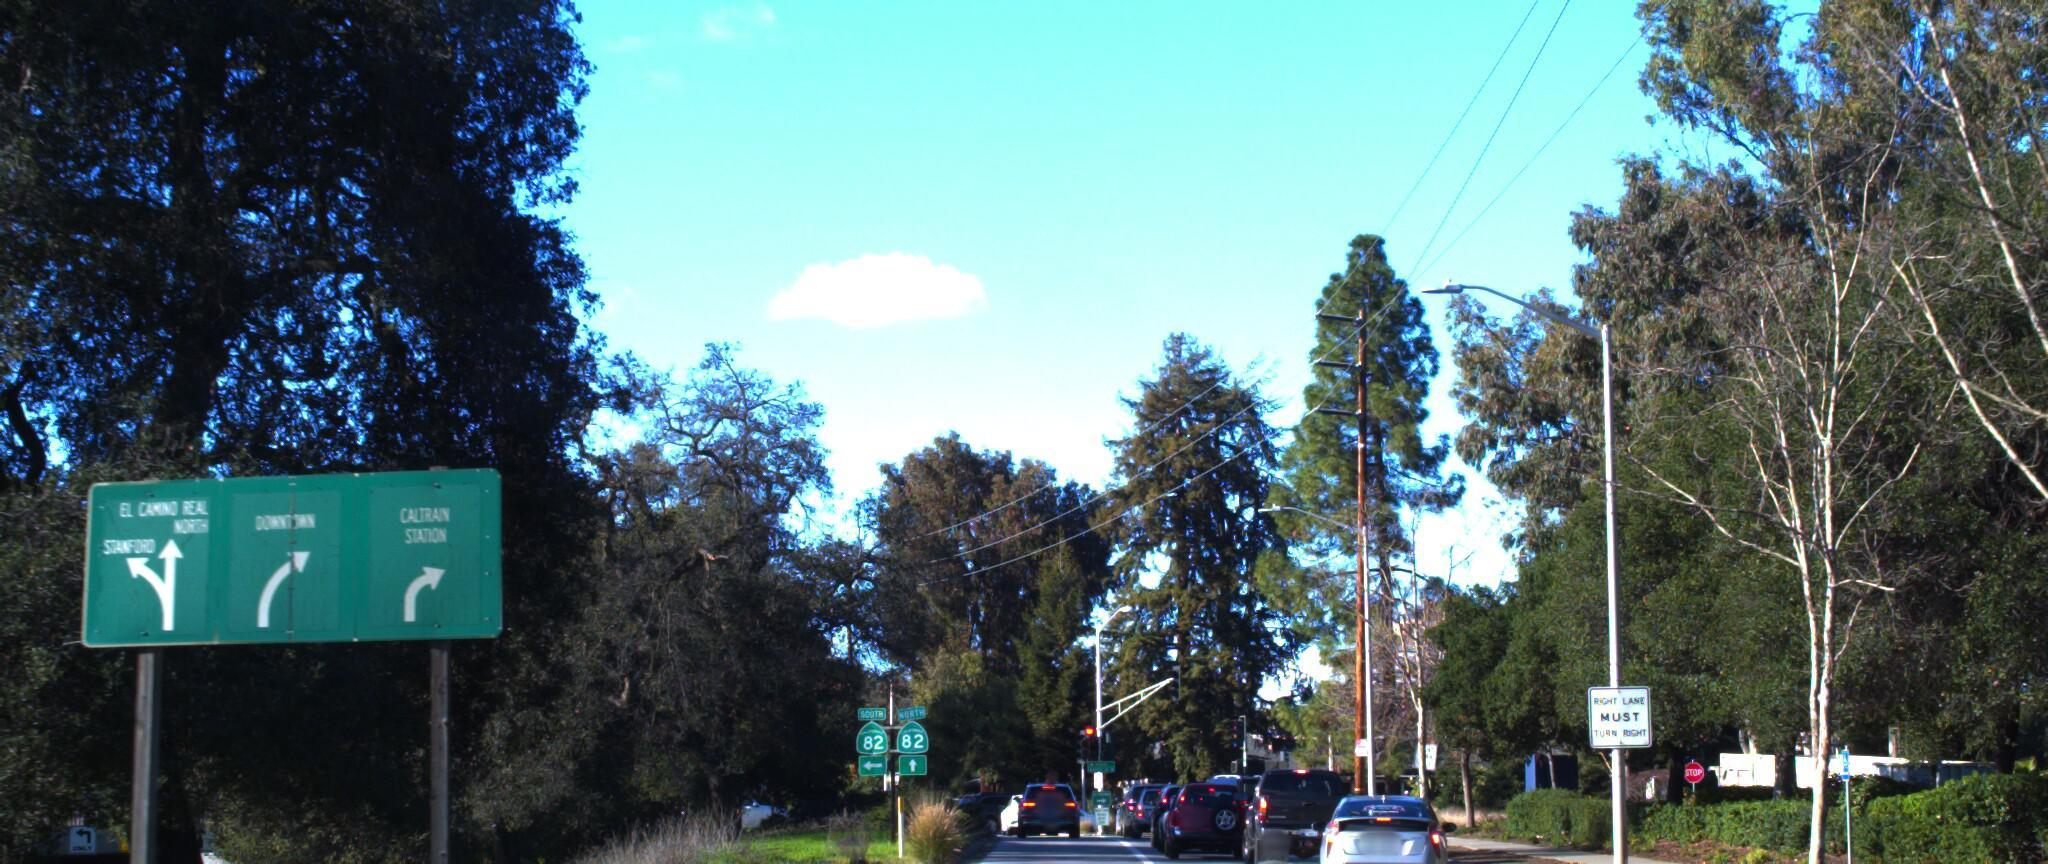car: (1230, 750, 1373, 857), (1309, 784, 1454, 864), (1159, 764, 1256, 850)
